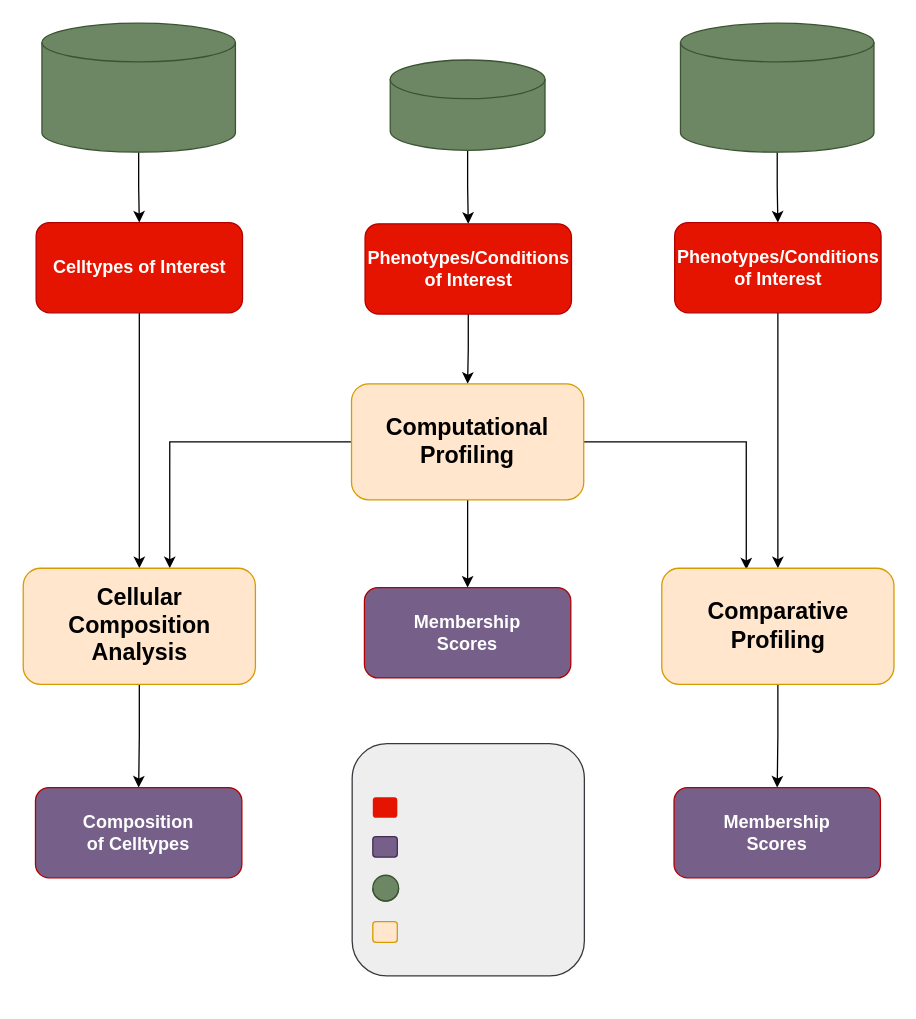
The diagram is 916 pixels wide and 1019 high, and some of its shapes have lost their labels. The shapes that lost their labels are listed below. From the top down, each one's box as (x1, y1, x2, y2) in pixels, then its label:
(41, 22, 235, 152): Reference scRNA Data Set
(389, 59, 545, 150): Bulk Data Set
(679, 22, 874, 152): Reference Bulk Data Set
(351, 742, 584, 976): Legend: Input and Output Outcome Data (or Database) Algorithm
